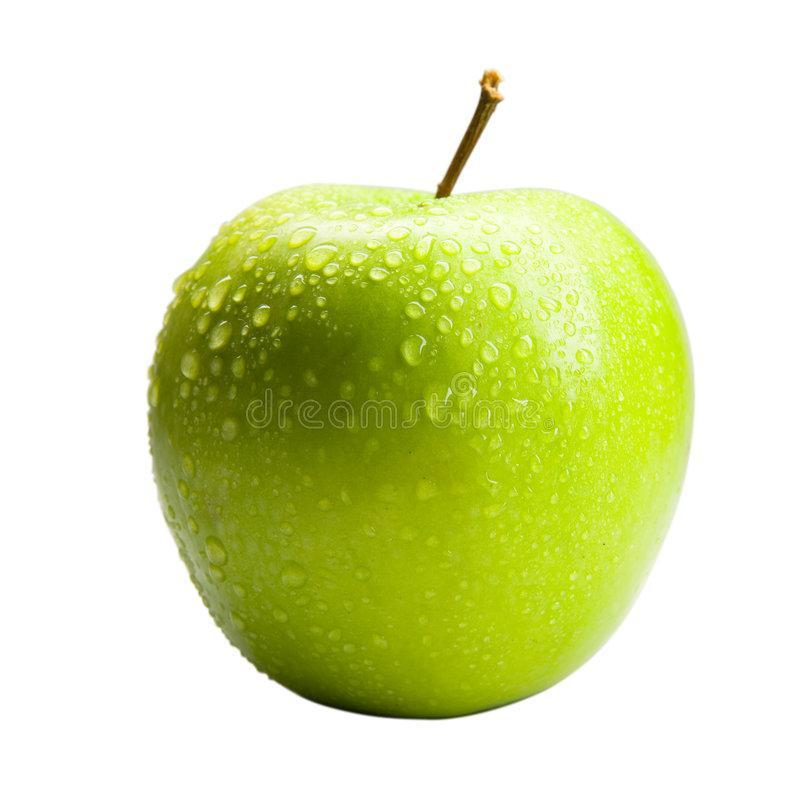apple: (145, 68, 692, 723)
